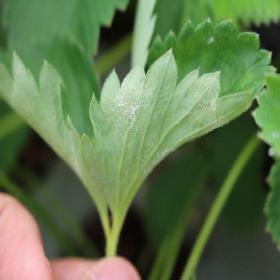Powdery Mildew Leaf: (80, 17, 277, 231)
